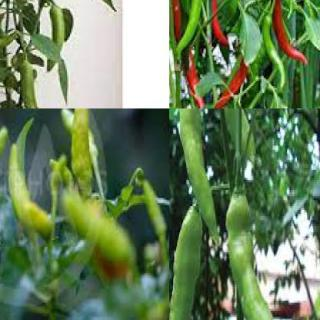green_chilli: (224, 192, 282, 319), (171, 109, 220, 243), (9, 121, 52, 245), (170, 202, 206, 319), (256, 14, 289, 91), (70, 109, 98, 194), (173, 0, 206, 58), (142, 175, 168, 240), (46, 2, 68, 72), (17, 59, 48, 108), (0, 14, 23, 49), (0, 125, 11, 183), (177, 0, 195, 20)
